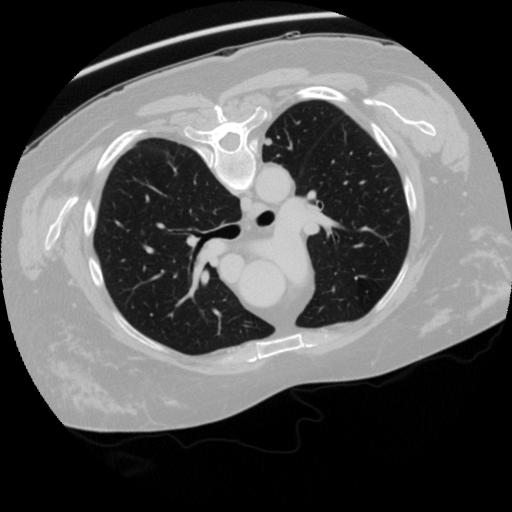nodule: (260, 136, 275, 151)
